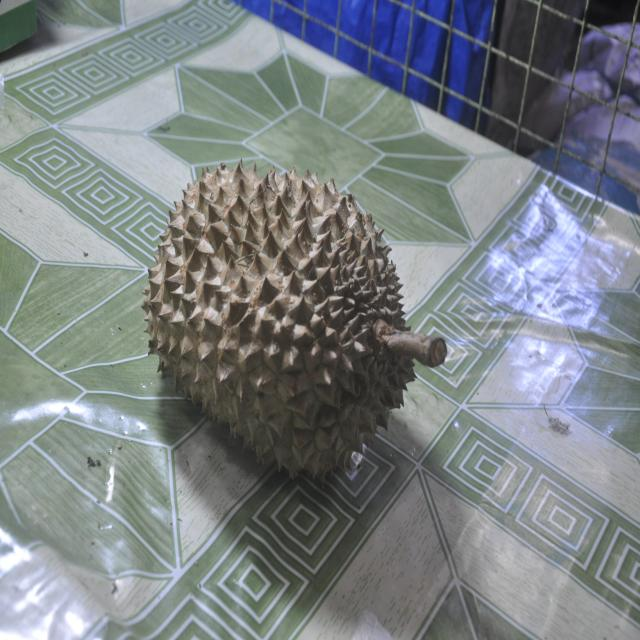mature: (142, 161, 414, 478)
